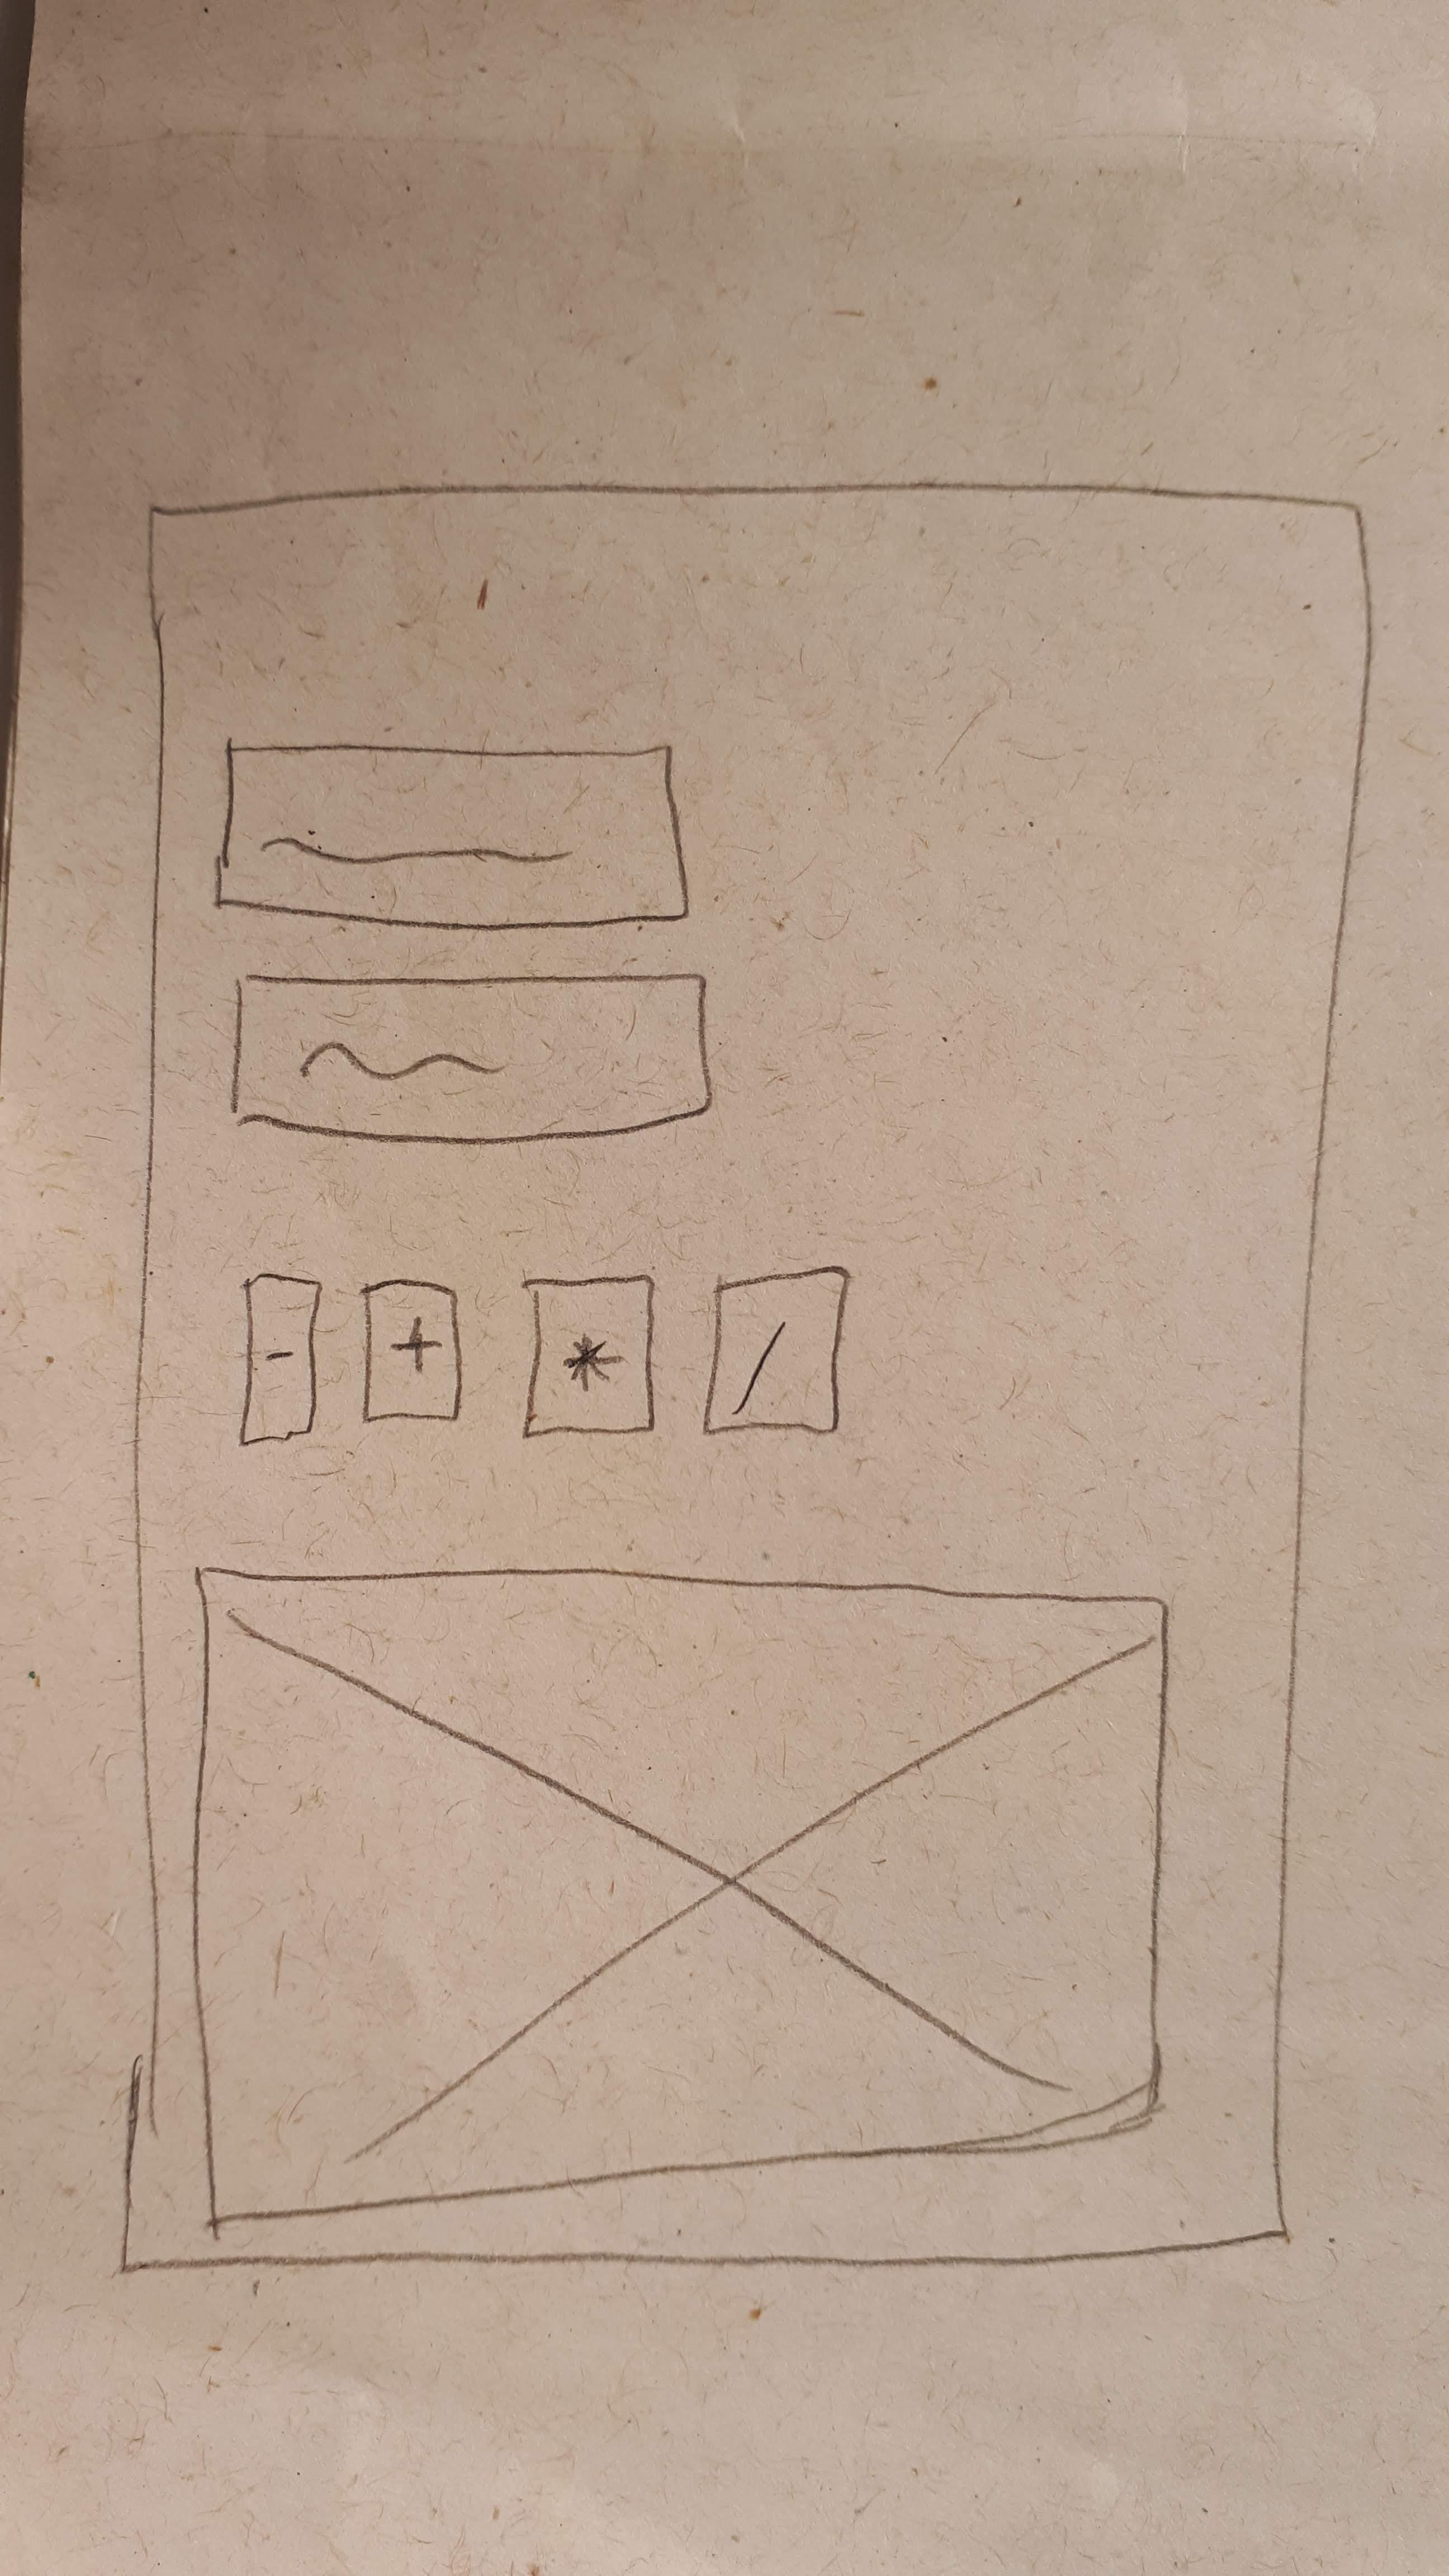Button: (706, 1267, 849, 1435), (527, 1277, 656, 1435), (363, 1281, 465, 1421), (242, 1270, 318, 1449)
Image: (196, 1564, 1169, 2219)
Screen: (117, 483, 1371, 2281)
TextBox: (223, 741, 688, 929), (234, 970, 715, 1143)
